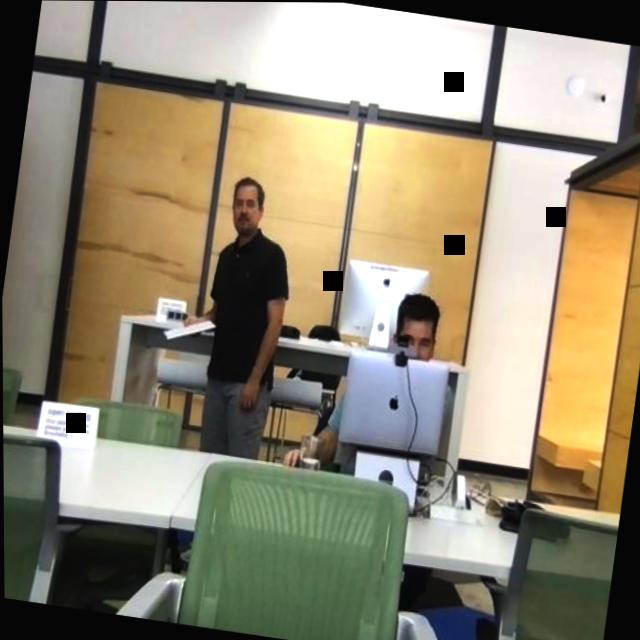NO-Mask: (223, 173, 271, 242)
